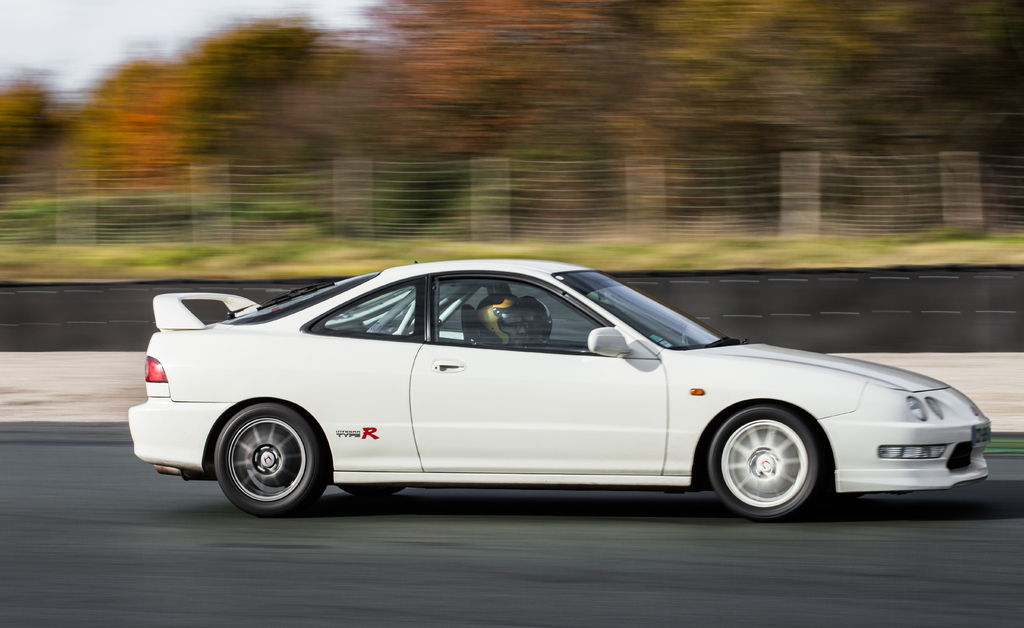cars: (125, 257, 996, 526)
